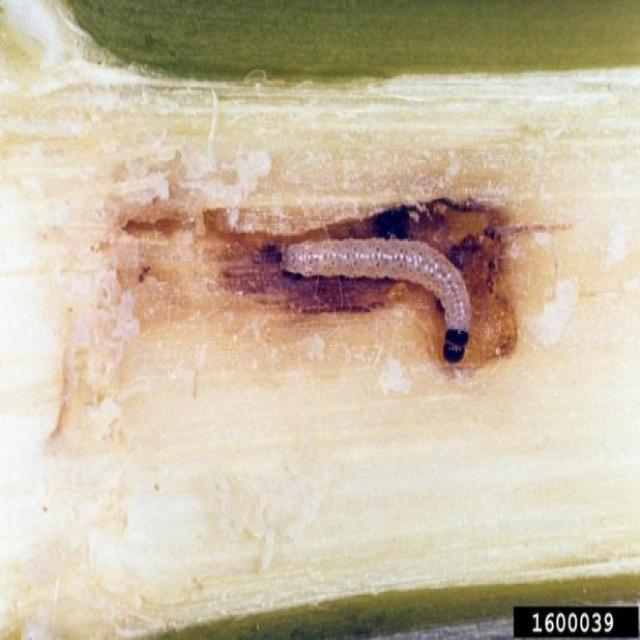cornborer-Larva-: (270, 228, 484, 380)
